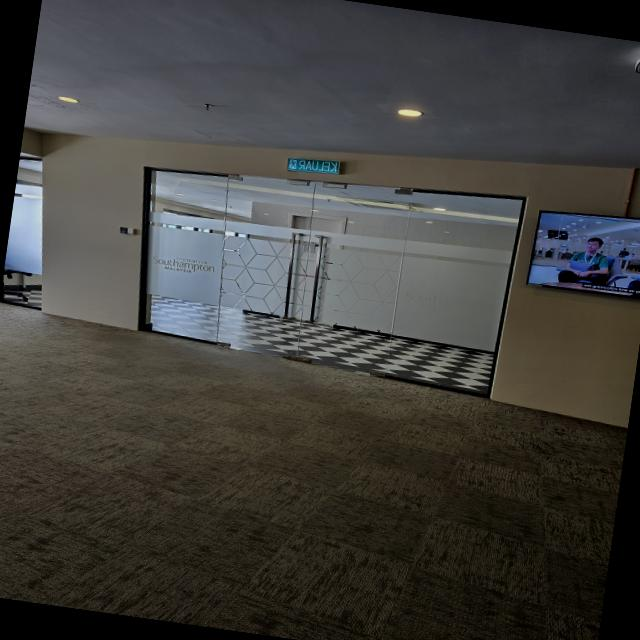door: (202, 166, 415, 374)
footpath: (0, 335, 627, 640)
